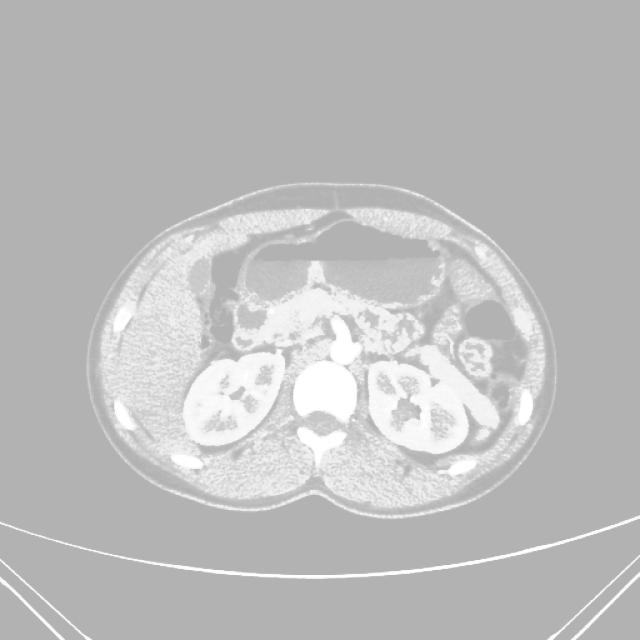NORMAL: (77, 163, 569, 536)
